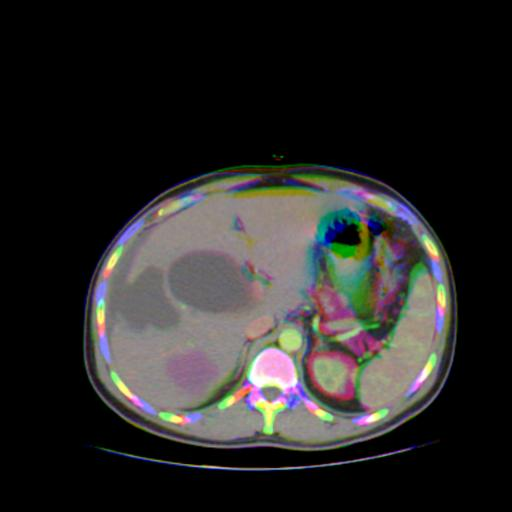Cyst: (105, 227, 178, 346), (168, 251, 254, 311)
